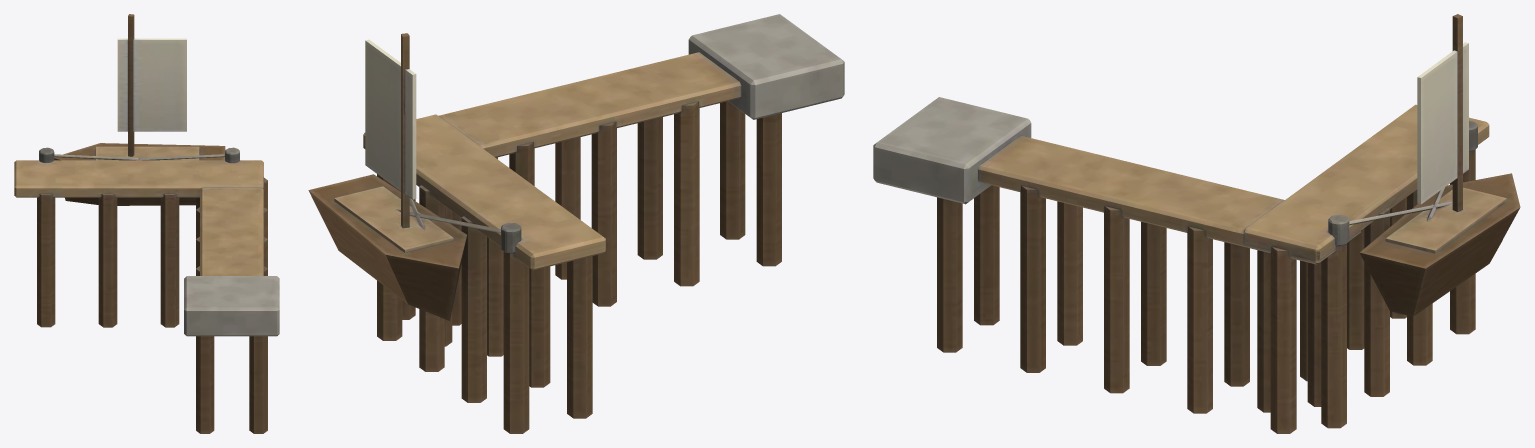
File: harbor-pier-5.glb
3 views of the same model, side by side, from view 1: azimuth 30°, elevation 25°; view 2: azimuth 150°, elevation 25°; view 3: azimuth 270°, elevation 25° (orthographic). The views are drawn at different scales.
Visible parts, largest first — view 1: harbor-pier-5; view 2: harbor-pier-5; view 3: harbor-pier-5.
Boxes of the visible parts, <box> form: harbor-pier-5: <box>14,14,279,433</box>; harbor-pier-5: <box>308,14,844,433</box>; harbor-pier-5: <box>873,14,1520,433</box>.
Size of the model in its own units: 0.9413 by 1.11 by 1.76.
1 material, 1 textured.
